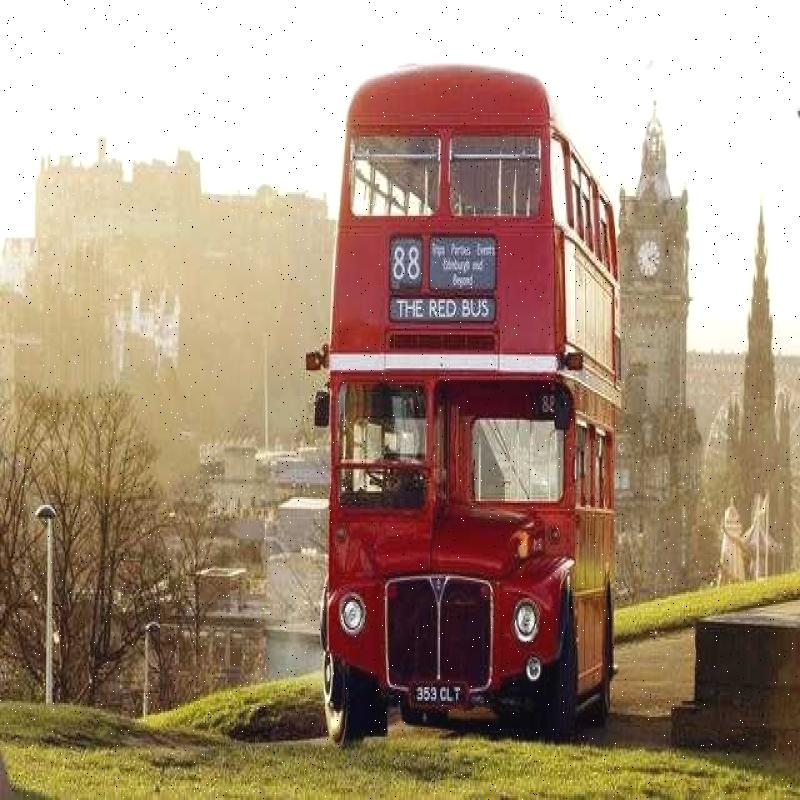bus: (302, 47, 624, 775)
